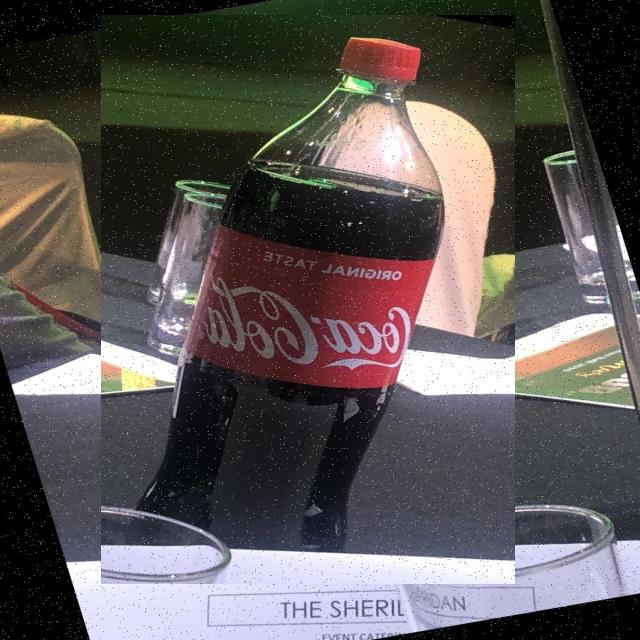coca-cola: (102, 15, 516, 584)
